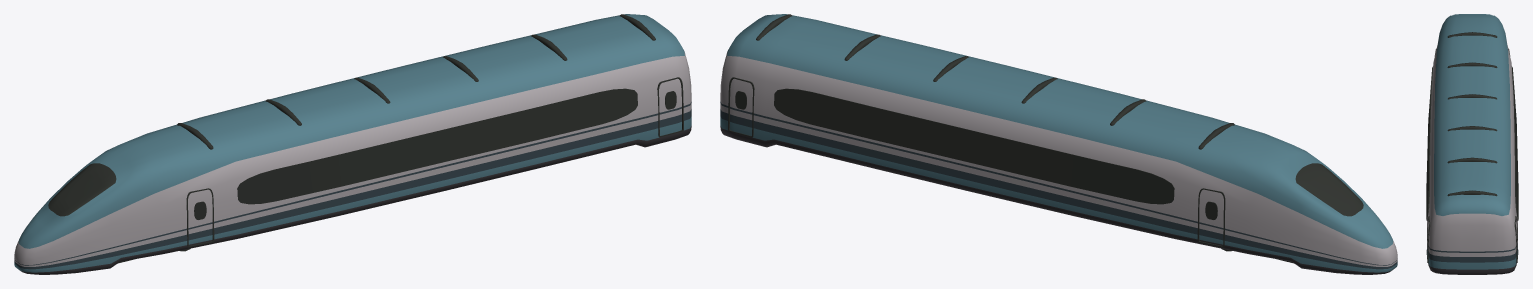
Rendered from quaternius-train-pack-april-highspeed-front.glb.
3 views of the same model, side by side, from view 1: azimuth 30°, elevation 25°; view 2: azimuth 150°, elevation 25°; view 3: azimuth 270°, elevation 25° (orthographic). The views are drawn at different scales.
Visible parts, largest first — view 1: HighspeedTrain_Front; view 2: HighspeedTrain_Front; view 3: HighspeedTrain_Front.
Boxes of the visible parts, x1,y1,x2,y2 form: HighspeedTrain_Front: (14, 14, 691, 274); HighspeedTrain_Front: (720, 14, 1397, 274); HighspeedTrain_Front: (1426, 14, 1518, 274).
Bounding box in the file's own units: 12.16 × 1.9 × 2.03.
Materials: 1 (1 with a texture image).
